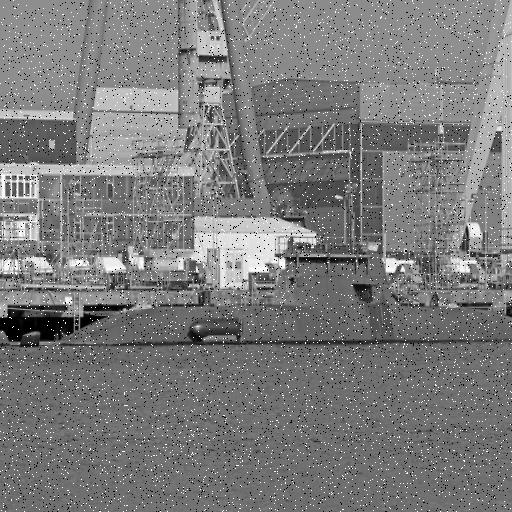submarine: (56, 247, 512, 347)
